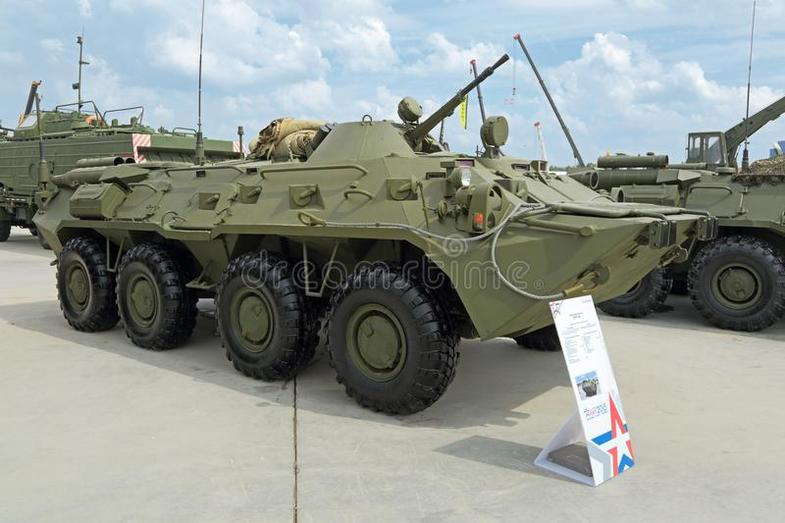btr: (56, 117, 671, 370)
